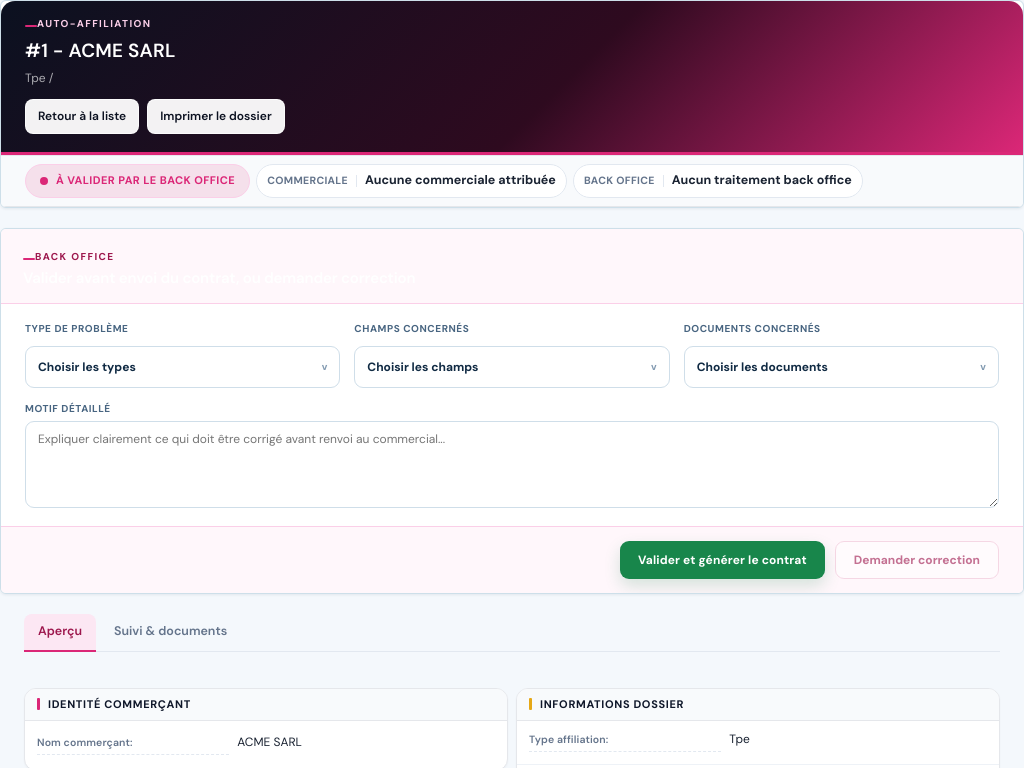
CommercialDossierDetailPage › un back office peut valider un dossier en attente de validation BOA
Click the button "Valider et générer le contrat": [722, 560] box [620,541,825,579]
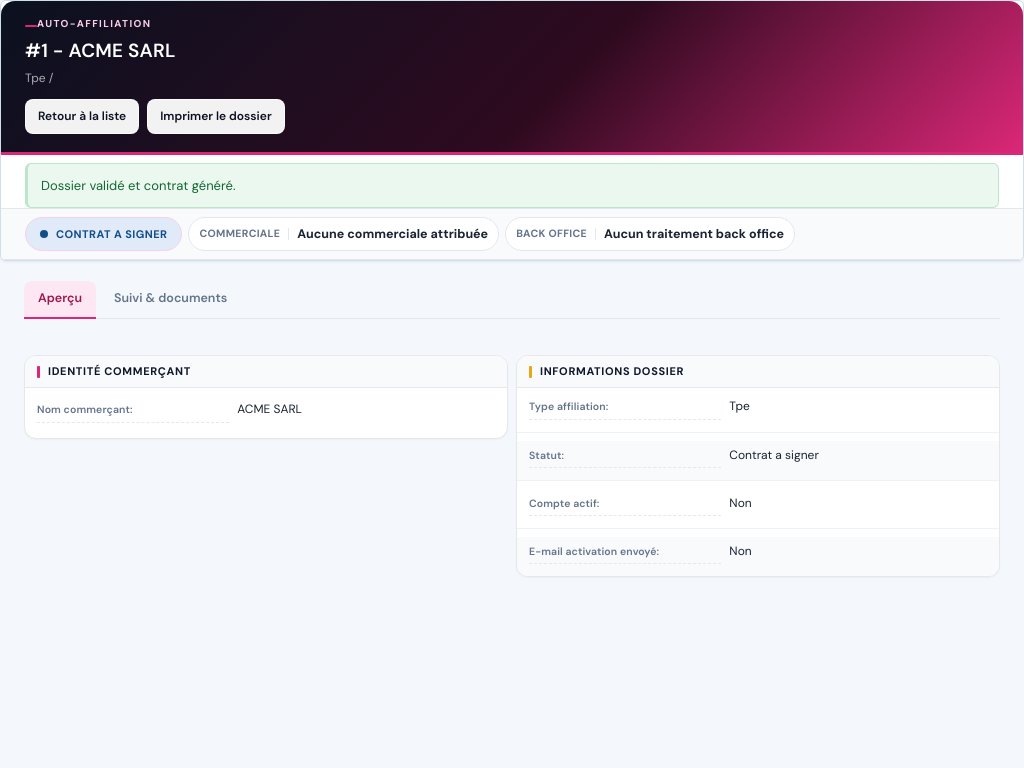
Result: the text "Dossier validé et contrat généré." is shown at [25,163,999,208]
